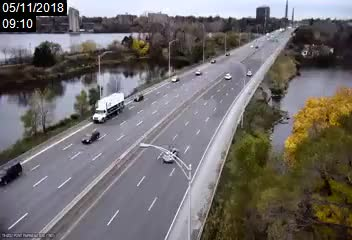personal_car: (1, 159, 22, 187), (162, 148, 179, 165), (81, 130, 100, 144), (133, 93, 144, 103), (224, 73, 232, 81), (245, 69, 253, 77), (171, 75, 179, 82), (195, 69, 202, 76)
truck: (92, 92, 125, 122)
